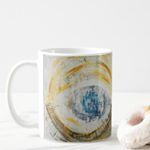cups: (3, 43, 117, 145)
